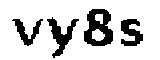8: (84, 6, 114, 50)
s: (118, 14, 144, 49)
v: (11, 15, 43, 47)
y: (47, 17, 79, 59)
